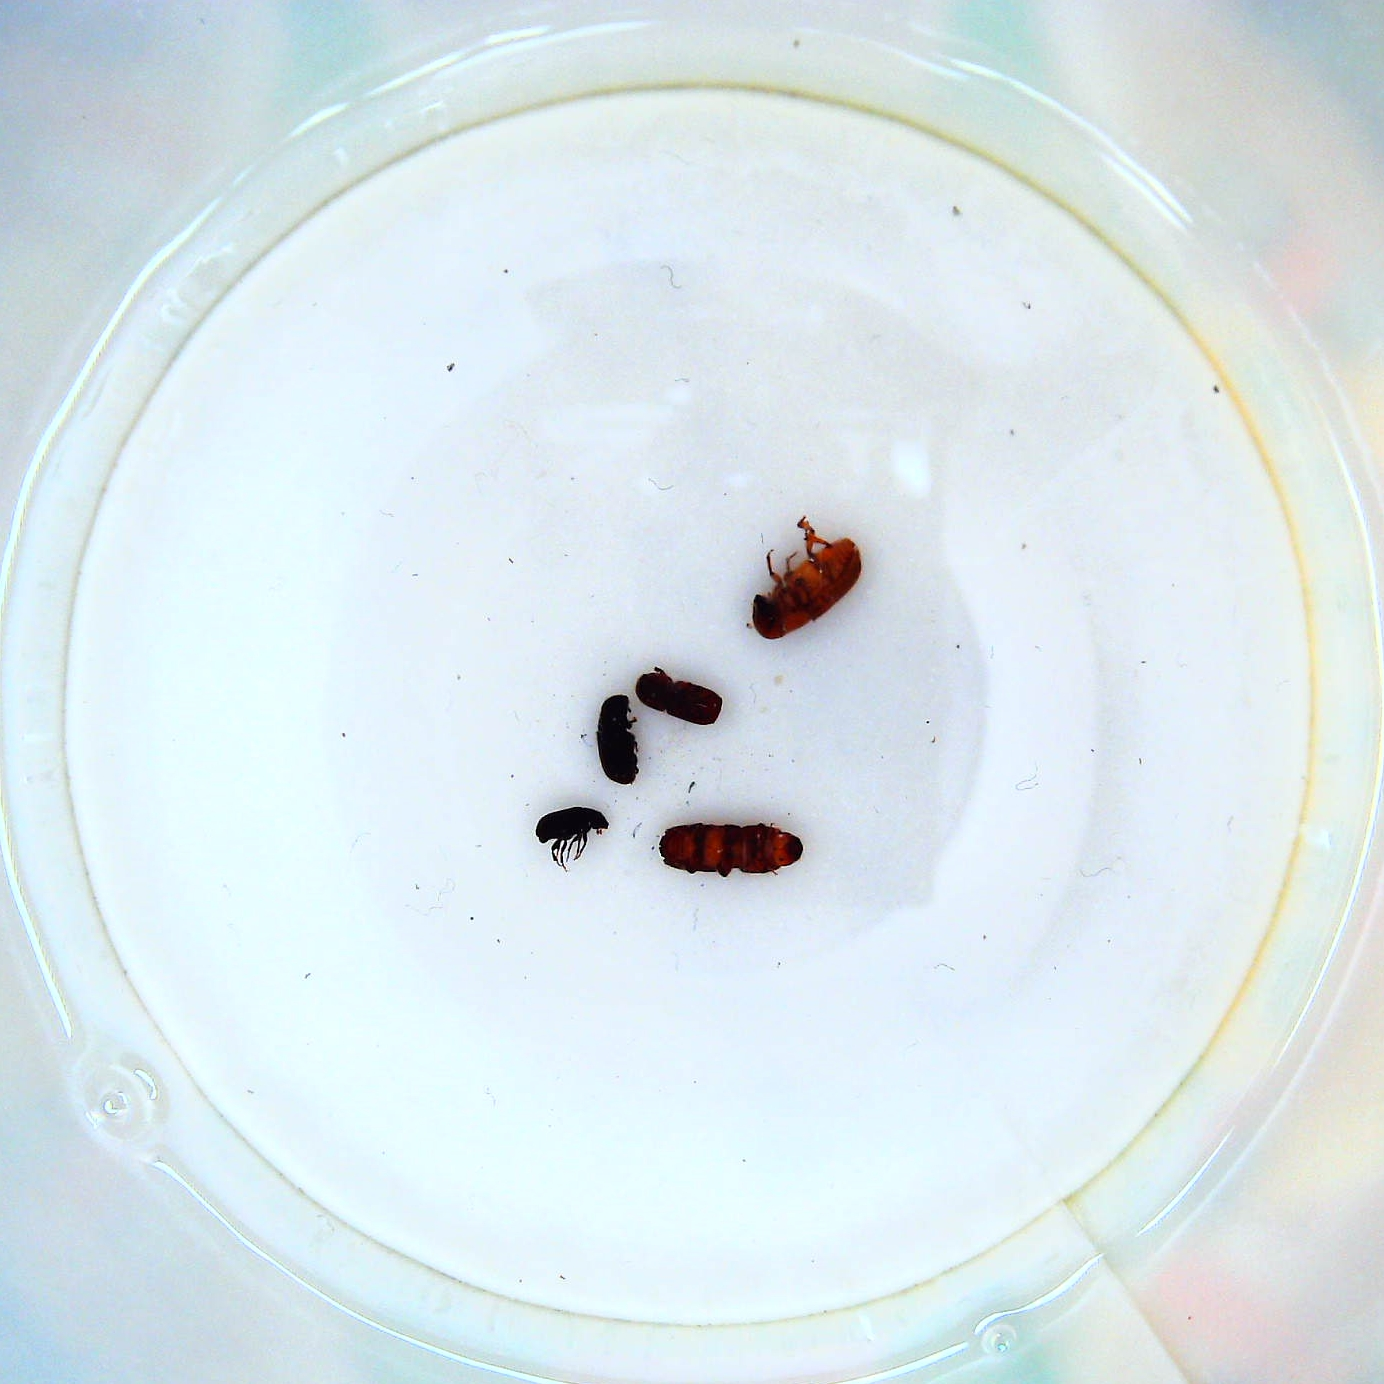Boerner: (651, 809, 812, 887)
Leconte: (746, 511, 872, 645)
armandi: (591, 689, 645, 792)
coleoptera: (535, 806, 618, 869)
linnaeus: (635, 665, 730, 733)
